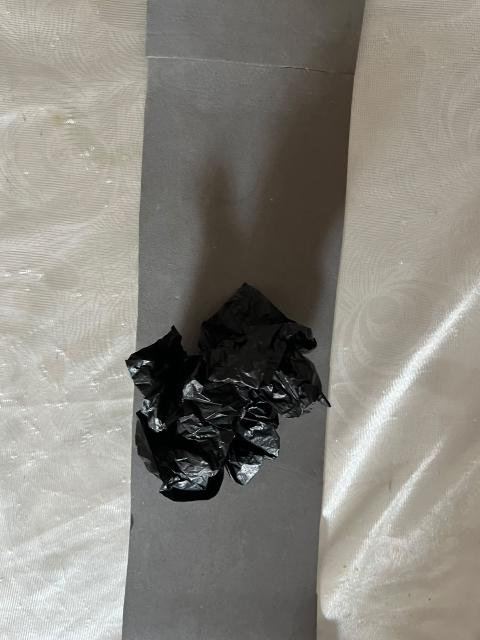LDPE: (92, 252, 360, 519)
